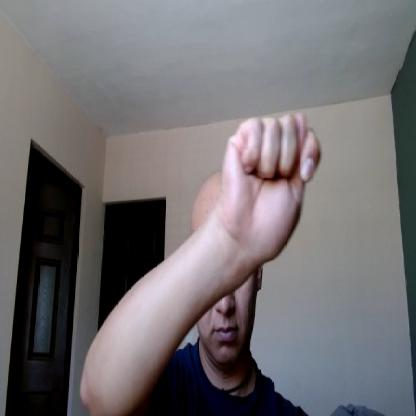T: (223, 108, 322, 260)
